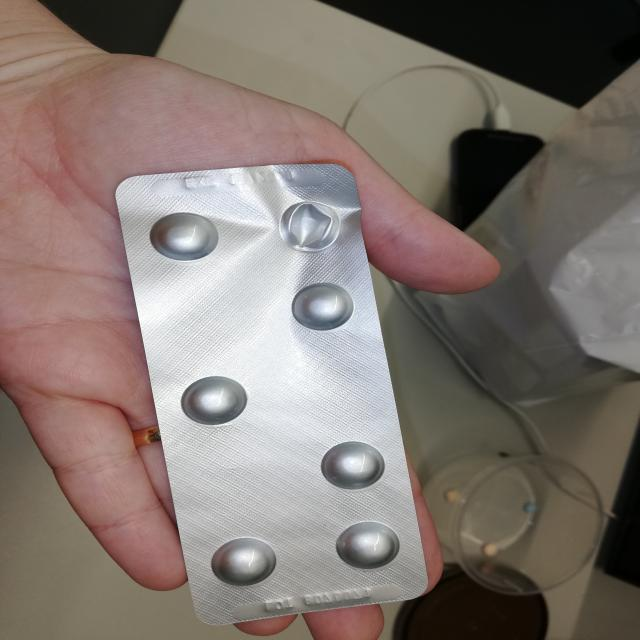Empty: (275, 197, 345, 256)
Pill: (146, 207, 224, 265), (178, 370, 253, 428), (206, 534, 280, 590), (317, 436, 389, 492), (287, 279, 359, 333), (333, 517, 401, 571)
